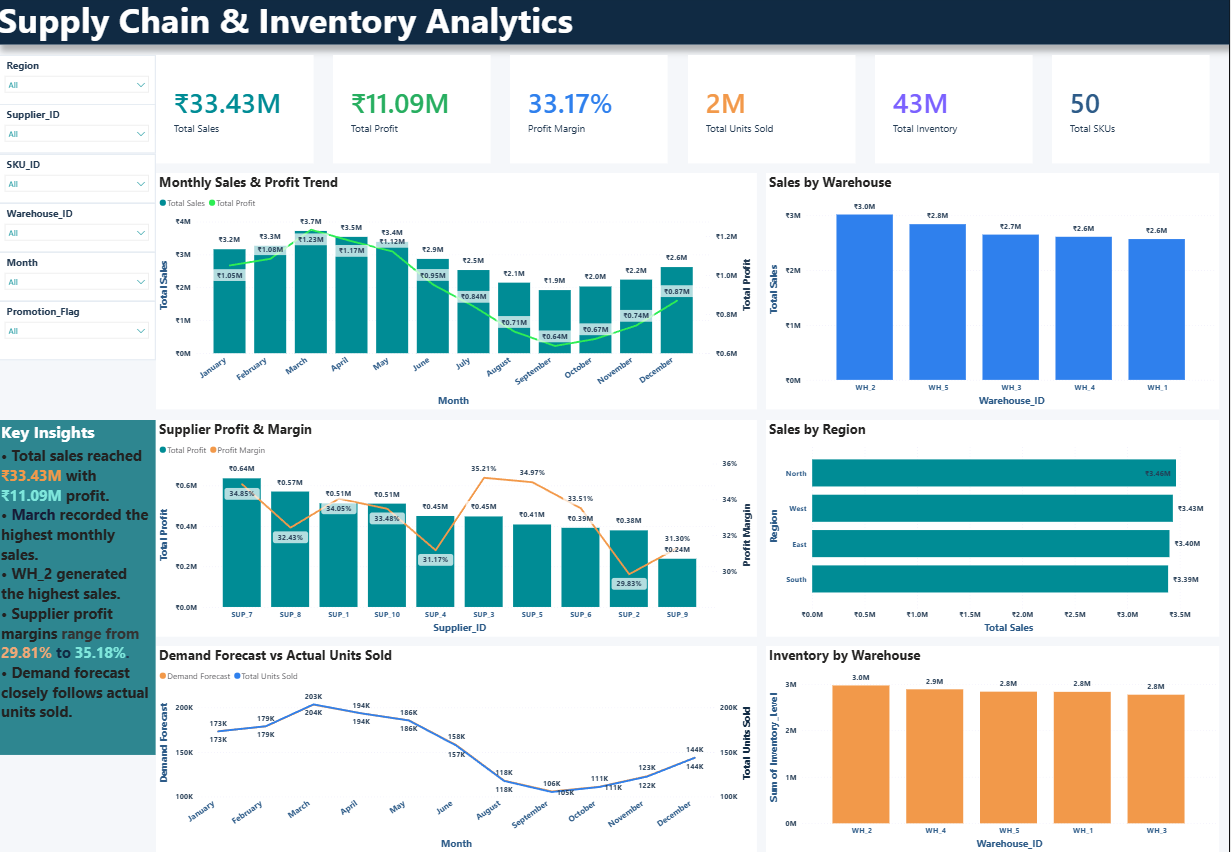

What the dashboard file says about the page in this screenshot:
{"tool":"powerbi","page":{"name":"Page 1","canvas":[2000,1400],"ordinal":0},"visuals":[{"type":"shape","title":"Supply Chain & Inventory Analytics","box":[0,0,2000,80],"z":0},{"type":"cardVisual","fields":{"Data":["supply_chain_db supply_chain_tb.Total sales"]},"box":[256,96,256,176],"z":1000},{"type":"cardVisual","fields":{"Data":["supply_chain_db supply_chain_tb.Total Profit"]},"box":[544,96,256,176],"z":2000},{"type":"cardVisual","fields":{"Data":["supply_chain_db supply_chain_tb.Profit Margin"]},"box":[832,96,256,176],"z":3000},{"type":"cardVisual","fields":{"Data":["Sum(supply_chain_db supply_chain_tb.Units_Sold)"]},"box":[1120,96,272,176],"z":4000},{"type":"cardVisual","fields":{"Data":["Sum(supply_chain_db supply_chain_tb.Inventory_Level)"]},"box":[1424,96,256,176],"z":5000},{"type":"cardVisual","fields":{"Data":["Count(supply_chain_db supply_chain_tb.SKU_ID)"]},"box":[1712,96,256,176],"z":6000},{"type":"lineClusteredColumnComboChart","title":"Monthly Sales & Profit Trend","fields":{"Y":["supply_chain_db supply_chain_tb.Total Sales"],"Y2":["supply_chain_db supply_chain_tb.Total Profit"],"Category":["supply_chain_db supply_chain_tb.Date.Variation.Date Hierarchy.Month"]},"box":[256,288,976,384],"z":7000},{"type":"clusteredBarChart","title":"Sales by Region","fields":{"Category":["supply_chain_db supply_chain_tb.Region"],"Y":["supply_chain_db supply_chain_tb.Total Sales"]},"box":[1248,688,736,352],"z":8000},{"type":"clusteredColumnChart","title":"Sales by Warehouse","fields":{"Category":["supply_chain_db supply_chain_tb.Warehouse_ID"],"Y":["supply_chain_db supply_chain_tb.Total Sales"]},"box":[1248,288,736,384],"z":9000},{"type":"clusteredColumnChart","title":"Inventory by Warehouse","fields":{"Category":["supply_chain_db supply_chain_tb.Warehouse_ID"],"Y":["Sum(supply_chain_db supply_chain_tb.Inventory_Level)"]},"box":[1248,1056,736,336],"z":10000},{"type":"lineClusteredColumnComboChart","title":"Supplier Profit & Margin","fields":{"Category":["supply_chain_db supply_chain_tb.Supplier_ID"],"Y":["supply_chain_db supply_chain_tb.Total Profit"],"Y2":["supply_chain_db supply_chain_tb.Profit Margin"]},"box":[256,688,976,352],"z":11000},{"type":"lineChart","title":"Demand Forecast vs Actual Units Sold","fields":{"Category":["supply_chain_db supply_chain_tb.Date.Variation.Date Hierarchy.Month"],"Y":["Sum(supply_chain_db supply_chain_tb.Demand_Forecast)"],"Y2":["Sum(supply_chain_db supply_chain_tb.Units_Sold)"]},"box":[256,1056,976,336],"z":12000},{"type":"slicer","fields":{"Values":["supply_chain_db supply_chain_tb.Region"]},"box":[0,96,256,128],"z":13000},{"type":"slicer","fields":{"Values":["supply_chain_db supply_chain_tb.Warehouse_ID"]},"box":[0,336,256,80],"z":14000},{"type":"slicer","fields":{"Values":["supply_chain_db supply_chain_tb.Supplier_ID"]},"box":[0,176,256,80],"z":15000},{"type":"slicer","fields":{"Values":["supply_chain_db supply_chain_tb.SKU_ID"]},"box":[0,256,256,80],"z":16000},{"type":"slicer","fields":{"Values":["supply_chain_db supply_chain_tb.Promotion_Flag"]},"box":[0,496,256,96],"z":17000},{"type":"slicer","fields":{"Values":["supply_chain_db supply_chain_tb.Date.Variation.Date Hierarchy.Month"]},"box":[0,416,256,80],"z":18000},{"type":"textbox","title":"Key Insights","box":[0,688,256,544],"z":19000}]}

Visuals, with their boxes in screenshot pixels (x1, y1, x2, y2), scaled from the page's 2000x1400 canvas onto the 1231x852 screenshot:
"Supply Chain & Inventory Analytics" shape: Rect(0, 0, 1230, 49)
cardVisual - supply_chain_db supply_chain_tb.Total sales: Rect(158, 58, 315, 166)
cardVisual - supply_chain_db supply_chain_tb.Total Profit: Rect(335, 58, 492, 166)
cardVisual - supply_chain_db supply_chain_tb.Profit Margin: Rect(512, 58, 670, 166)
cardVisual - Sum(supply_chain_db supply_chain_tb.Units_Sold): Rect(689, 58, 857, 166)
cardVisual - Sum(supply_chain_db supply_chain_tb.Inventory_Level): Rect(876, 58, 1034, 166)
cardVisual - Count(supply_chain_db supply_chain_tb.SKU_ID): Rect(1054, 58, 1211, 166)
"Monthly Sales & Profit Trend" lineClusteredColumnComboChart: Rect(158, 175, 758, 409)
"Sales by Region" clusteredBarChart: Rect(768, 419, 1221, 633)
"Sales by Warehouse" clusteredColumnChart: Rect(768, 175, 1221, 409)
"Inventory by Warehouse" clusteredColumnChart: Rect(768, 643, 1221, 847)
"Supplier Profit & Margin" lineClusteredColumnComboChart: Rect(158, 419, 758, 633)
"Demand Forecast vs Actual Units Sold" lineChart: Rect(158, 643, 758, 847)
slicer - supply_chain_db supply_chain_tb.Region: Rect(0, 58, 158, 136)
slicer - supply_chain_db supply_chain_tb.Warehouse_ID: Rect(0, 204, 158, 253)
slicer - supply_chain_db supply_chain_tb.Supplier_ID: Rect(0, 107, 158, 156)
slicer - supply_chain_db supply_chain_tb.SKU_ID: Rect(0, 156, 158, 204)
slicer - supply_chain_db supply_chain_tb.Promotion_Flag: Rect(0, 302, 158, 360)
slicer - supply_chain_db supply_chain_tb.Date.Variation.Date Hierarchy.Month: Rect(0, 253, 158, 302)
"Key Insights" textbox: Rect(0, 419, 158, 750)
